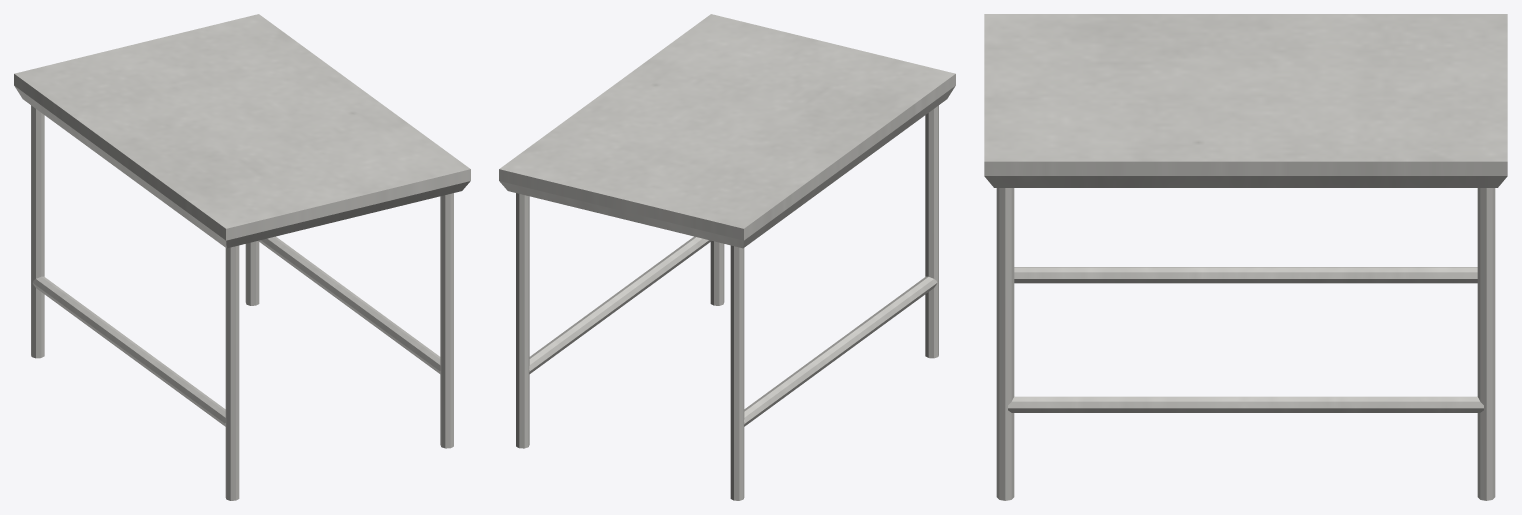
File: commercial_table.glb
3 views of the same model, side by side, from view 1: azimuth 30°, elevation 25°; view 2: azimuth 150°, elevation 25°; view 3: azimuth 270°, elevation 25° (orthographic). The views are drawn at different scales.
Parts seen in each view (by area): view 1: Cylinder; view 2: Cylinder; view 3: Cylinder.
Boxes of the visible parts, x1=… form: Cylinder: x1=14, y1=14, x2=470, y2=500; Cylinder: x1=499, y1=14, x2=955, y2=500; Cylinder: x1=984, y1=14, x2=1507, y2=500.
Size of the model in its own units: 4 by 4.36 by 6.
Materials: 1 (1 with a texture image).
